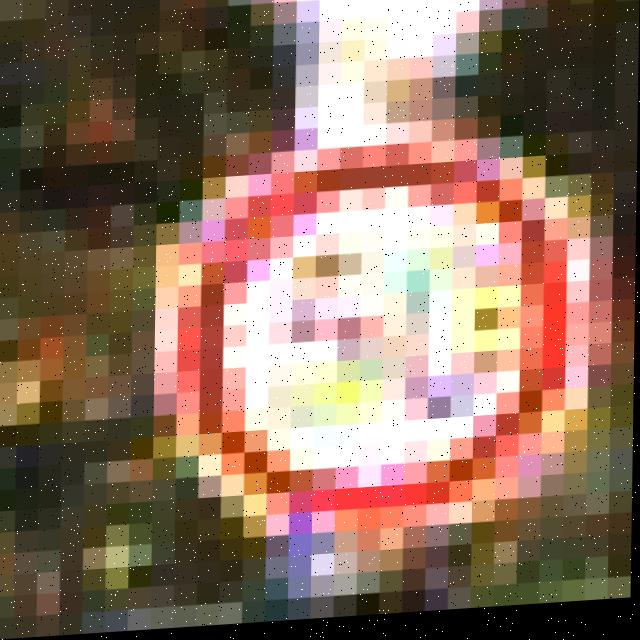speed_limit_50: (106, 107, 638, 547)
